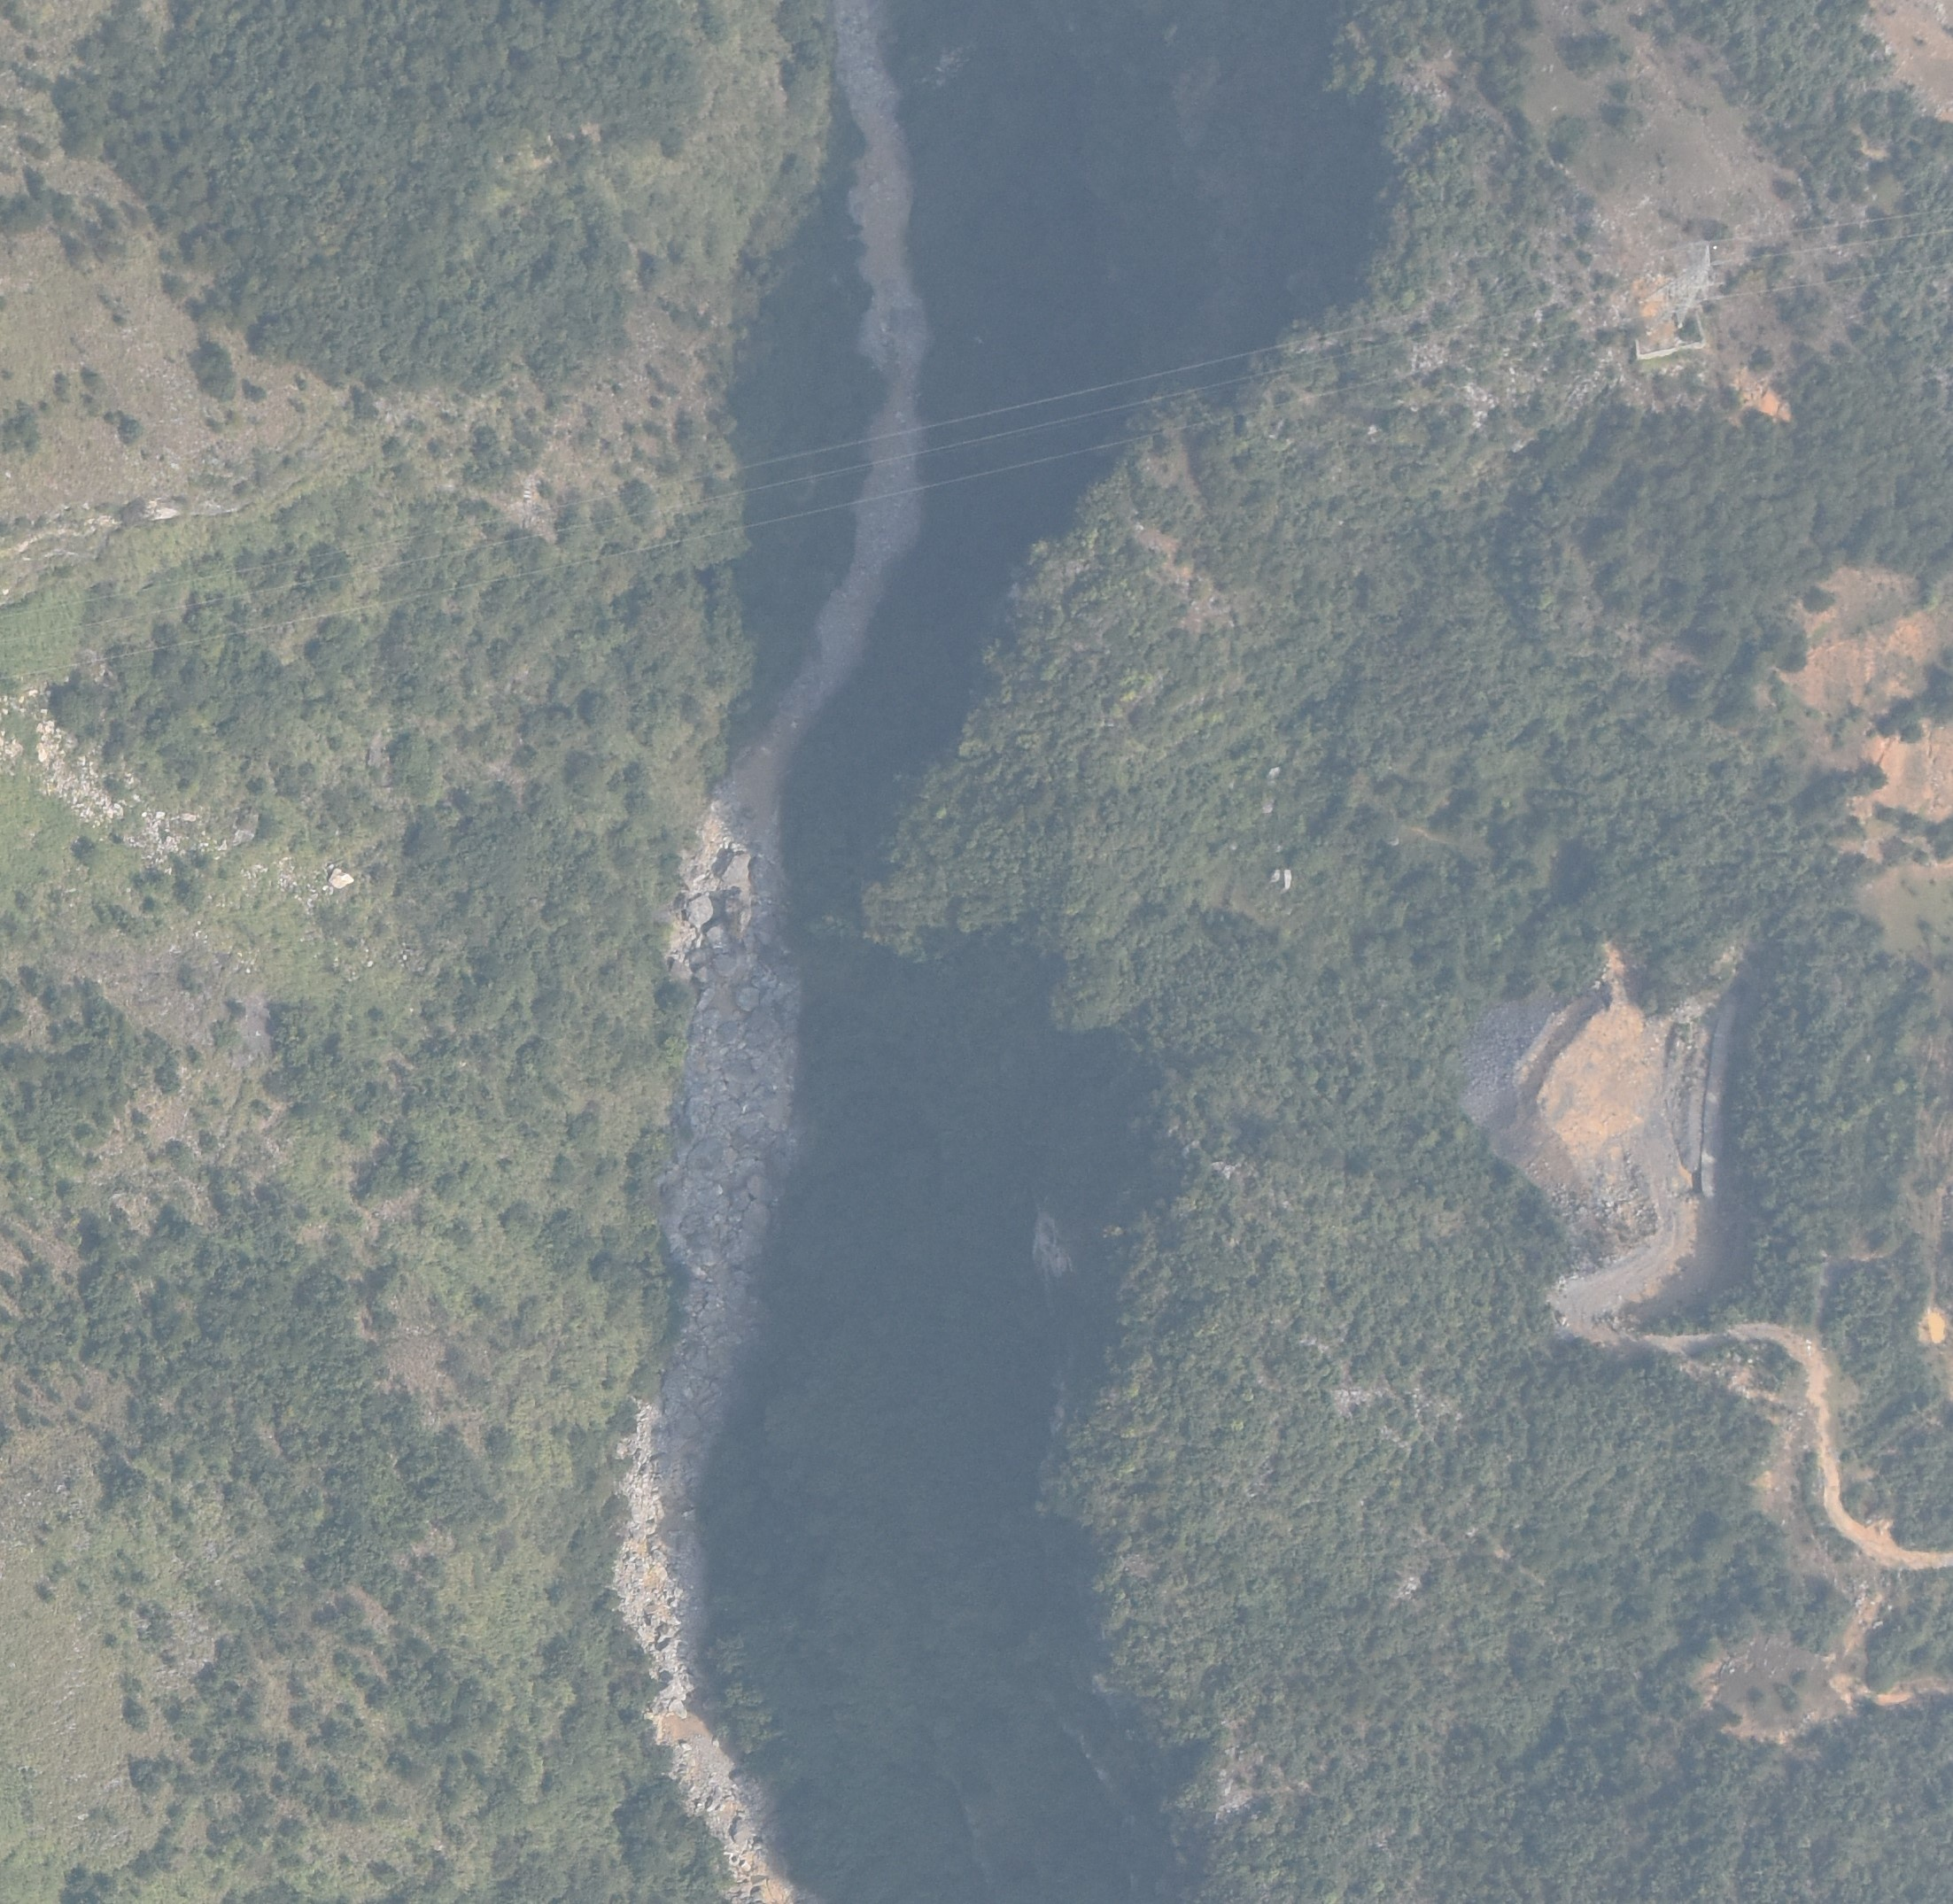cable-tower: (1633, 242, 1713, 355)
quarry: (1465, 941, 1736, 1351)
